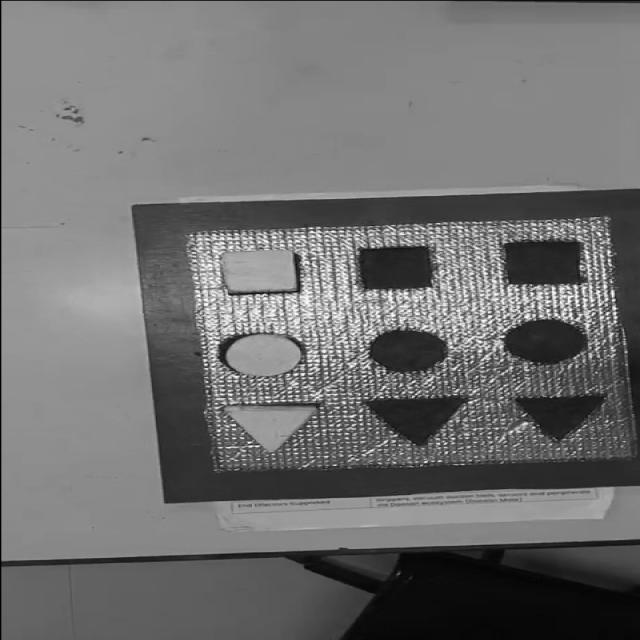mtcircle: (500, 318, 589, 364), (368, 328, 450, 372)
mtcube: (501, 240, 584, 287), (355, 245, 437, 291)
mttriangle: (364, 396, 472, 446), (512, 394, 606, 442)
wb: (184, 215, 636, 471)
ycircle: (221, 332, 304, 377)
ycube: (218, 250, 300, 296)
ytriangle: (221, 402, 322, 452)
